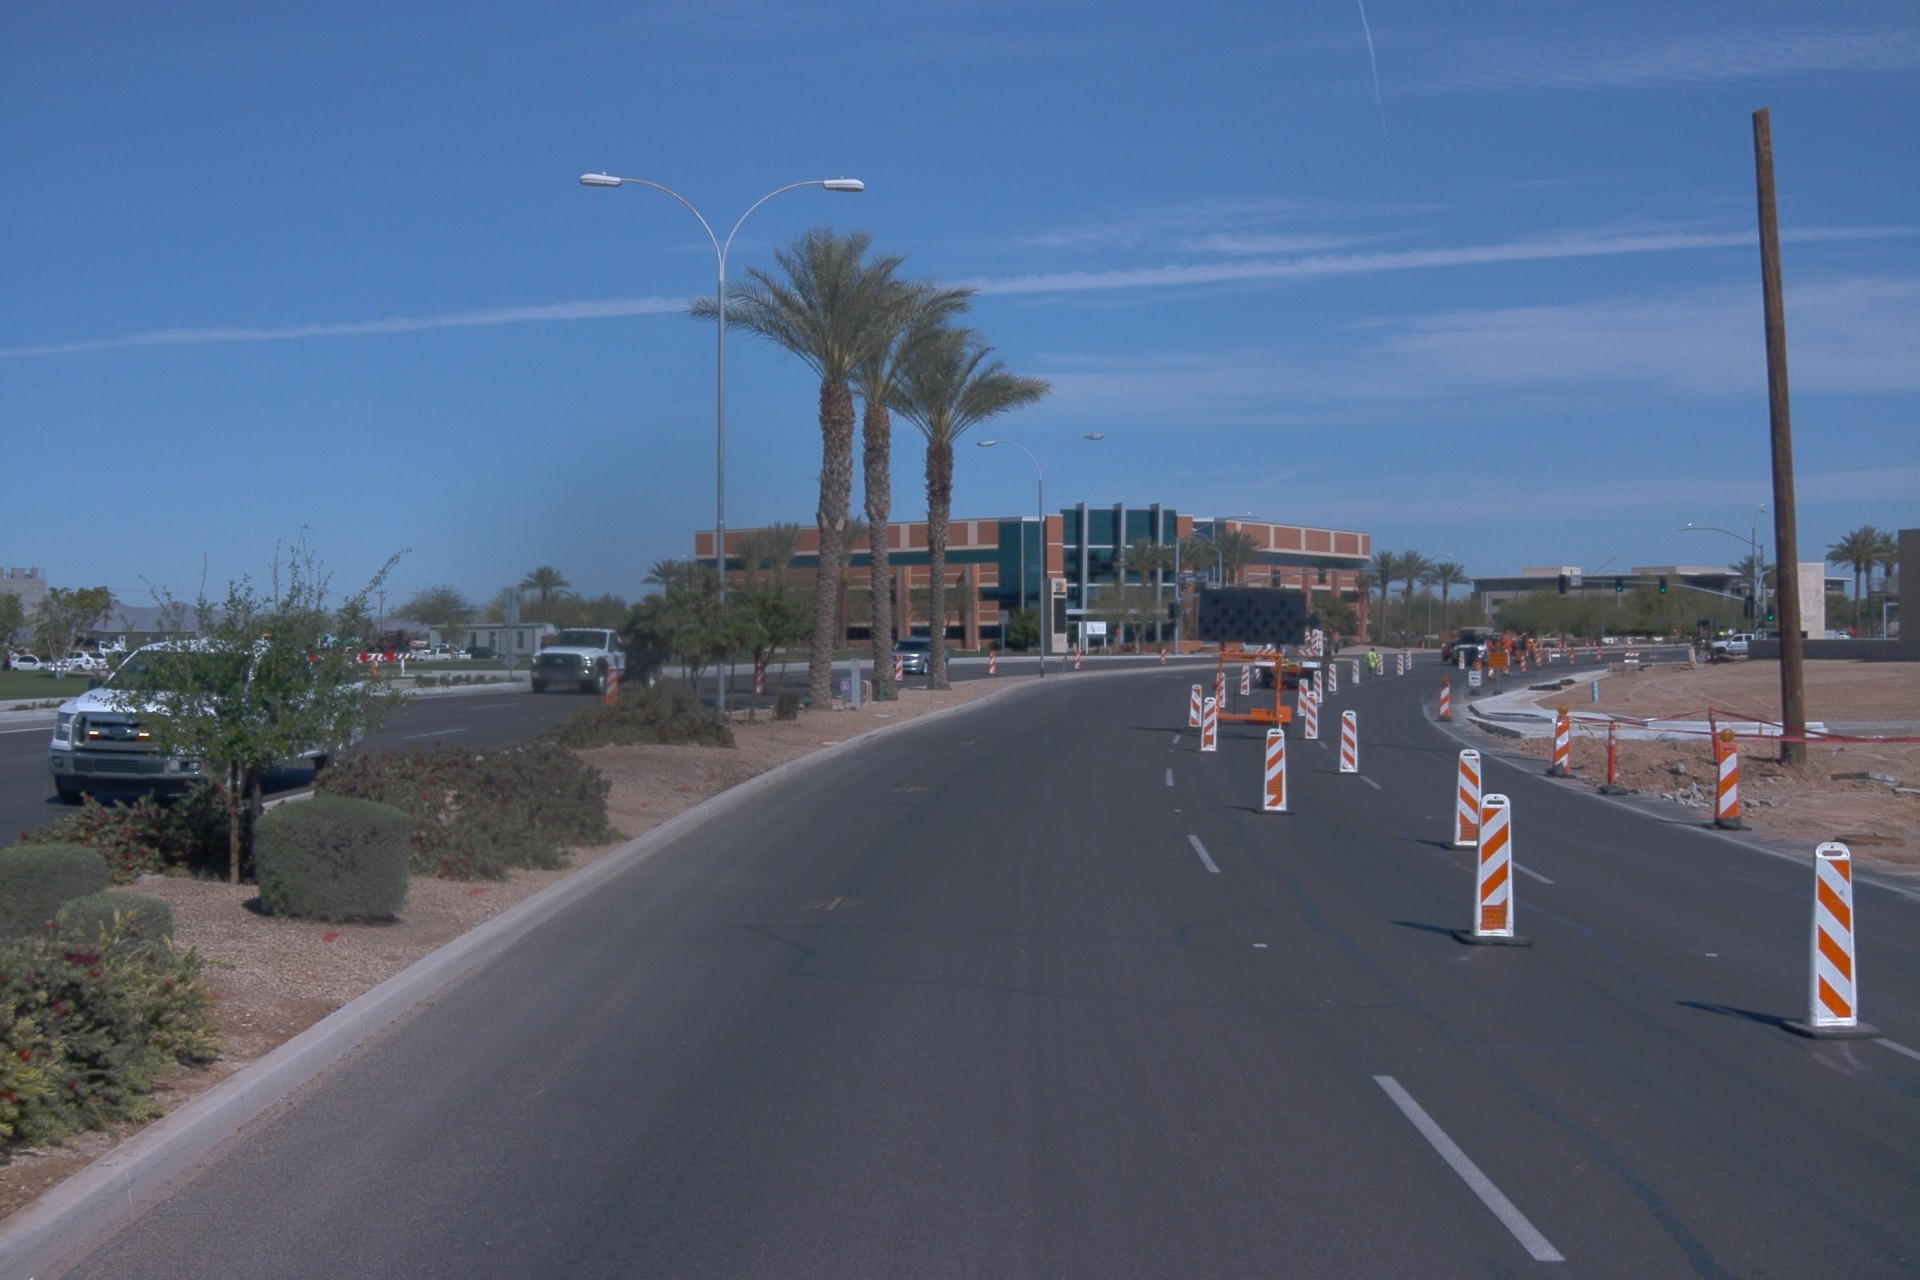TYPE_PEDESTRIAN: (1364, 647, 1377, 678)
TYPE_VEHICLE: (35, 639, 379, 807), (1190, 570, 1330, 746), (519, 601, 693, 699), (1251, 621, 1342, 692), (1450, 622, 1544, 669), (890, 636, 950, 677), (10, 647, 72, 673), (401, 639, 461, 665), (63, 645, 109, 676), (1711, 633, 1758, 663), (409, 641, 473, 663), (73, 634, 127, 660), (465, 640, 512, 661), (413, 648, 472, 664), (1441, 633, 1460, 665), (1241, 642, 1280, 656)
